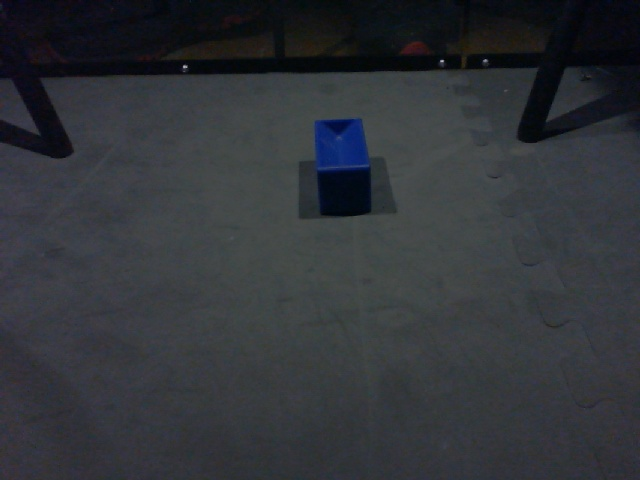BlueSample: (310, 113, 375, 219)
